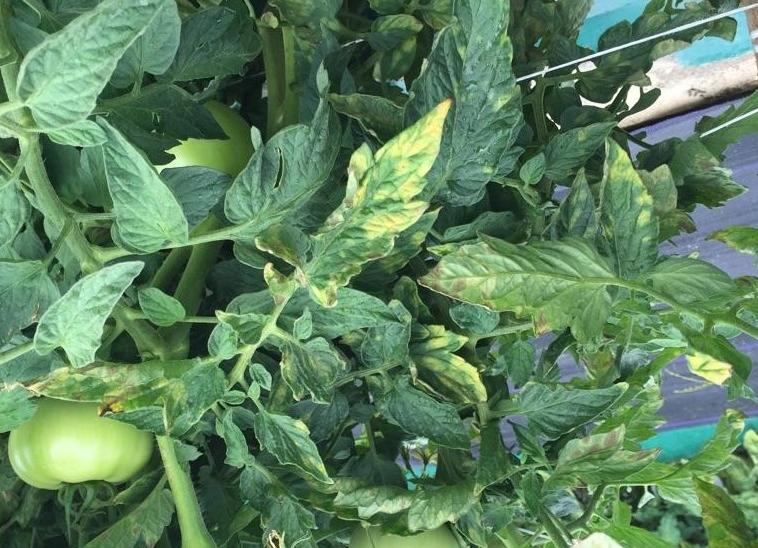Tomato mold leaf: (301, 99, 455, 292), (426, 227, 637, 353), (13, 4, 180, 128), (99, 114, 195, 260), (32, 358, 218, 430), (33, 253, 145, 365), (501, 373, 640, 448), (589, 139, 649, 287), (641, 255, 746, 314), (277, 327, 351, 404)
